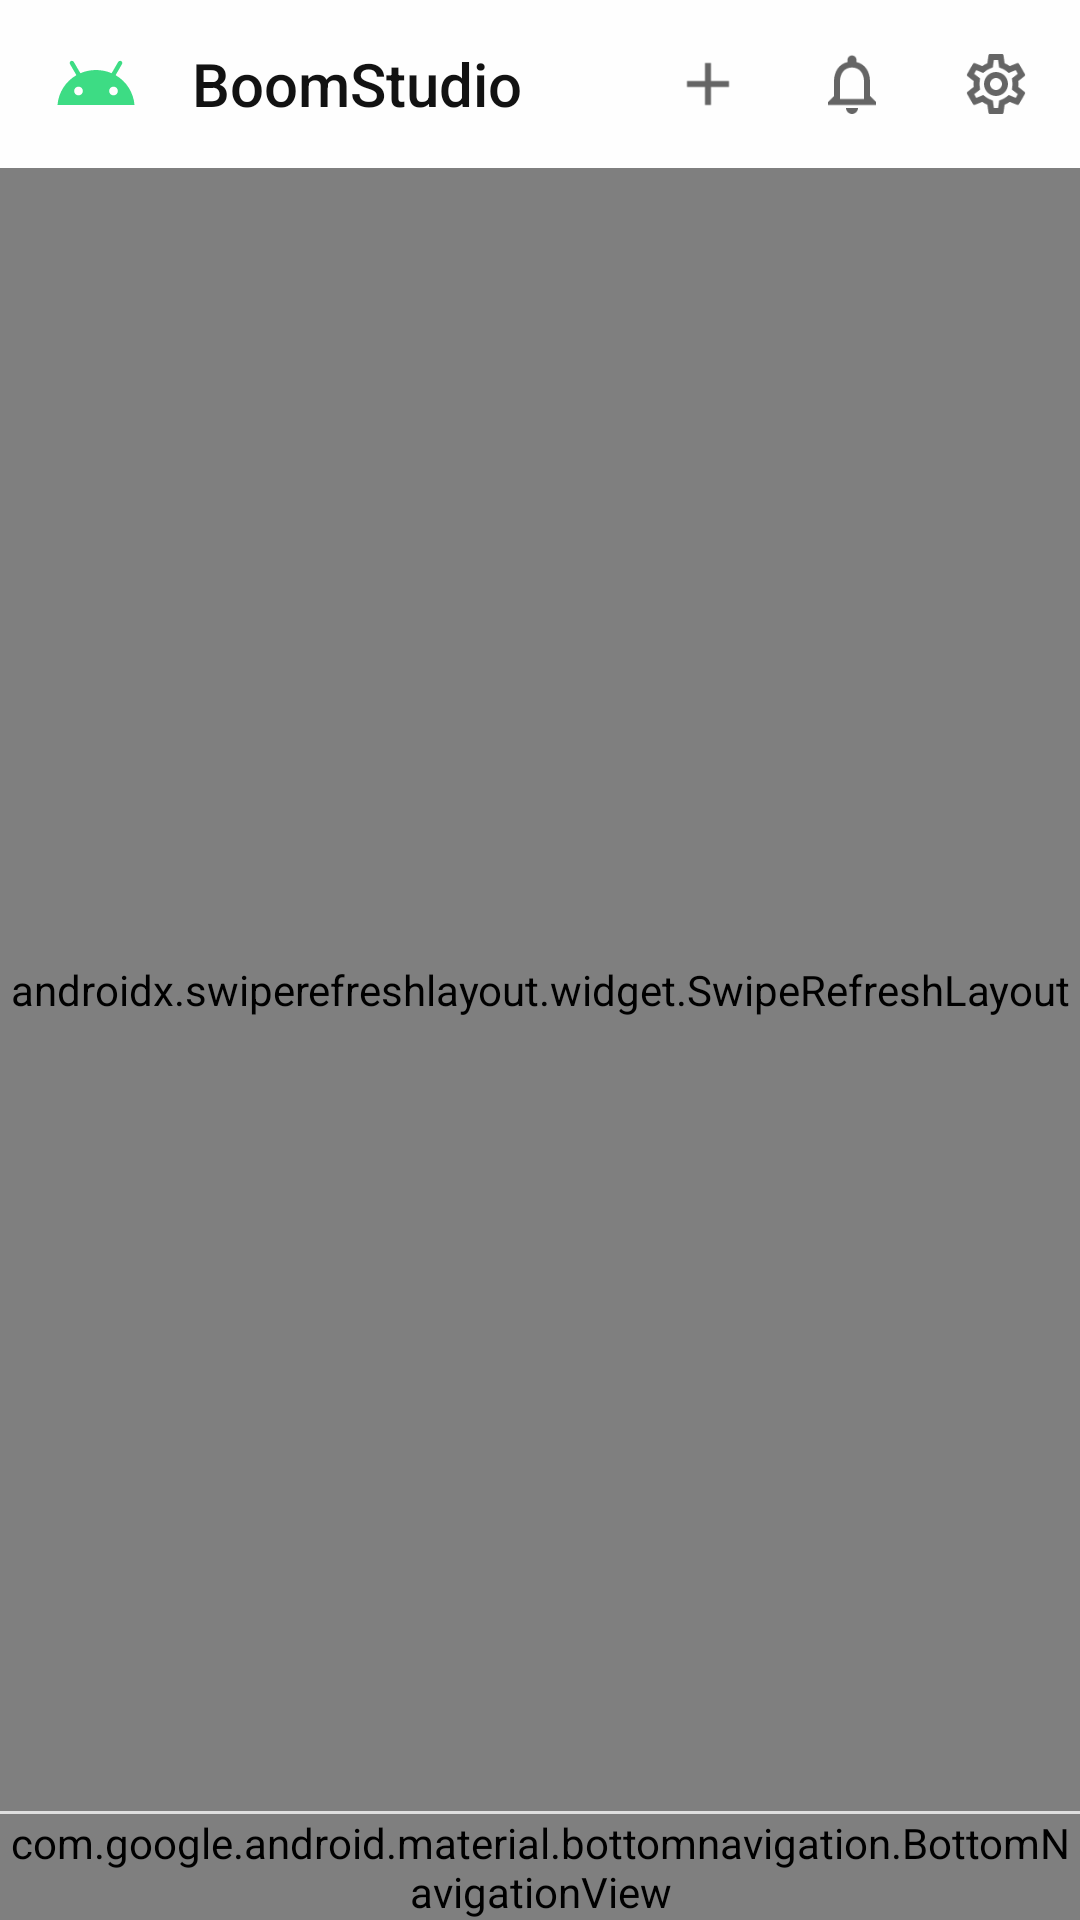

Where to tap for icons on this 1080x1920 app screen, as point (x, y):
add: point (708, 84)
notifications: point (852, 84)
settings: point (996, 84)
